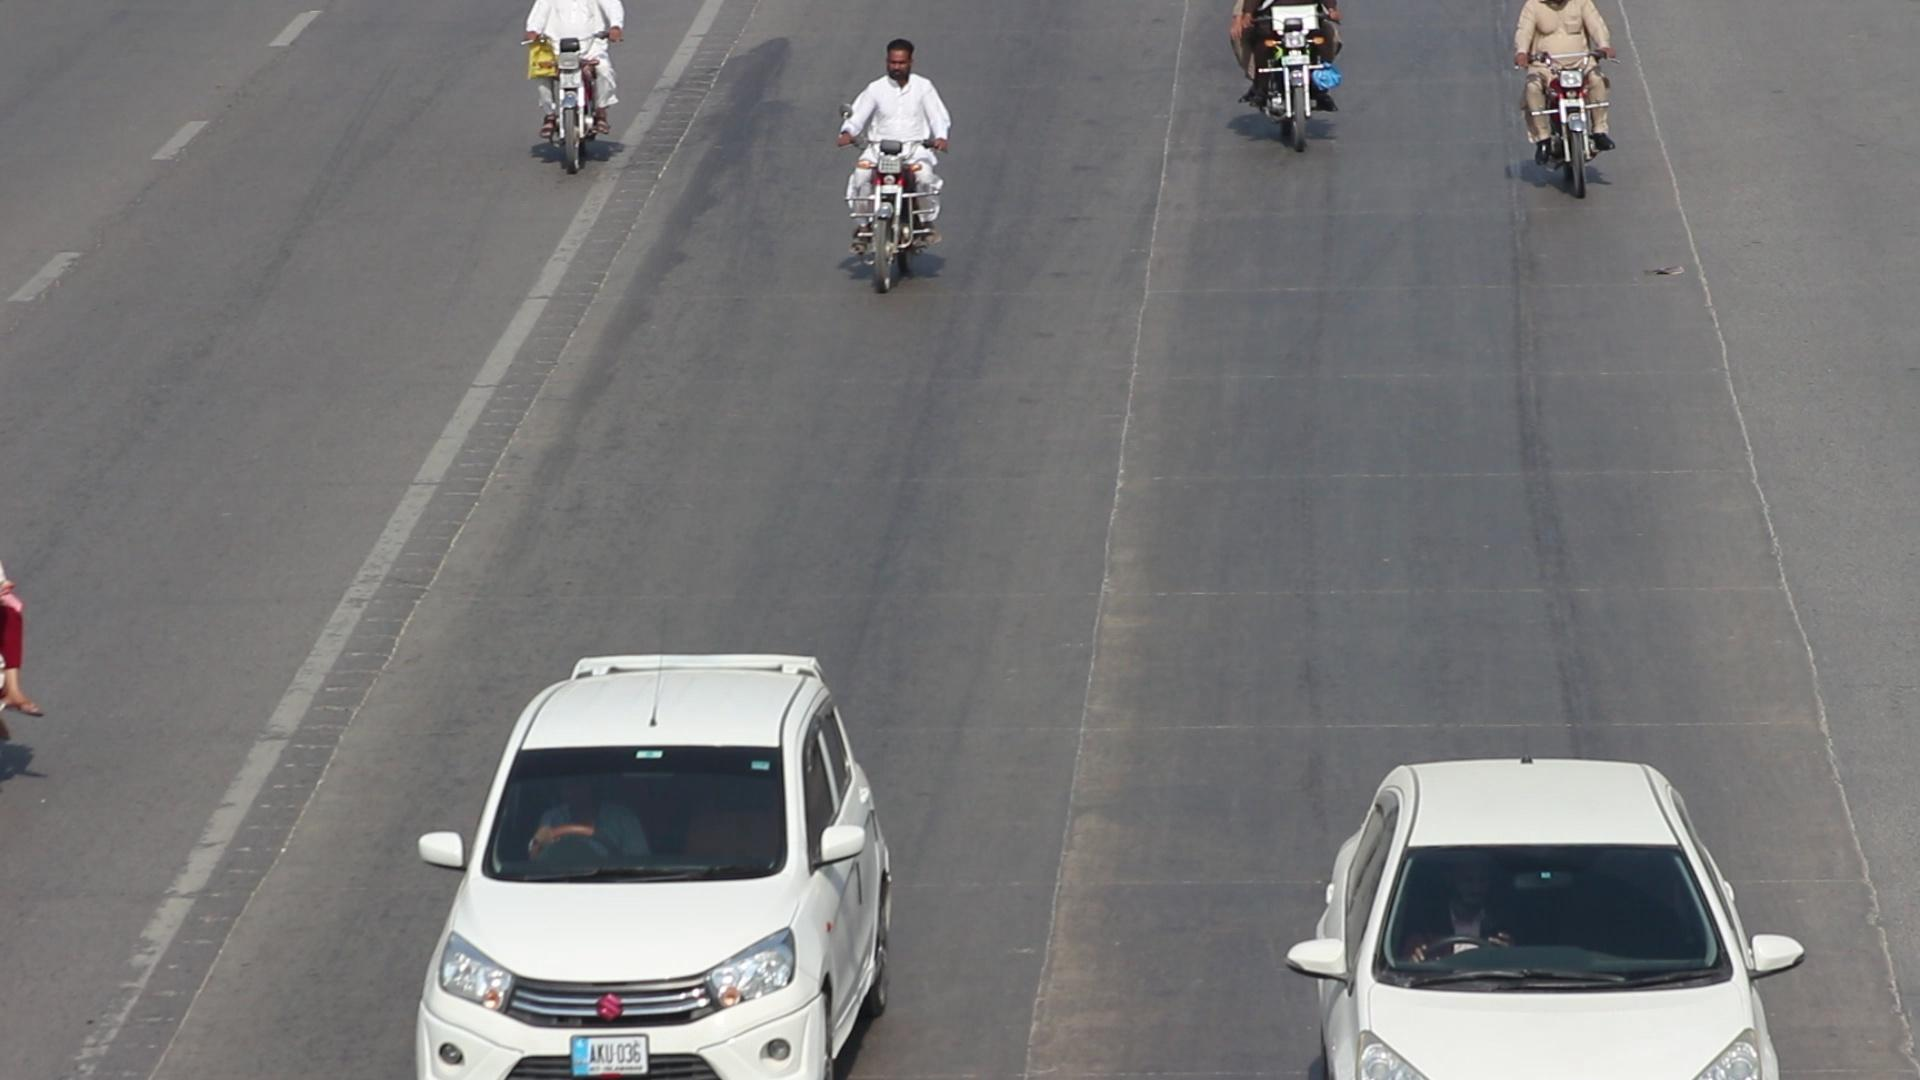windshield: (1367, 836, 1737, 993), (467, 740, 798, 877)
